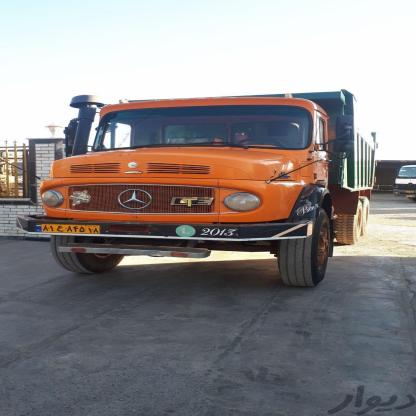Truck: (26, 83, 372, 298), (385, 157, 416, 205)
